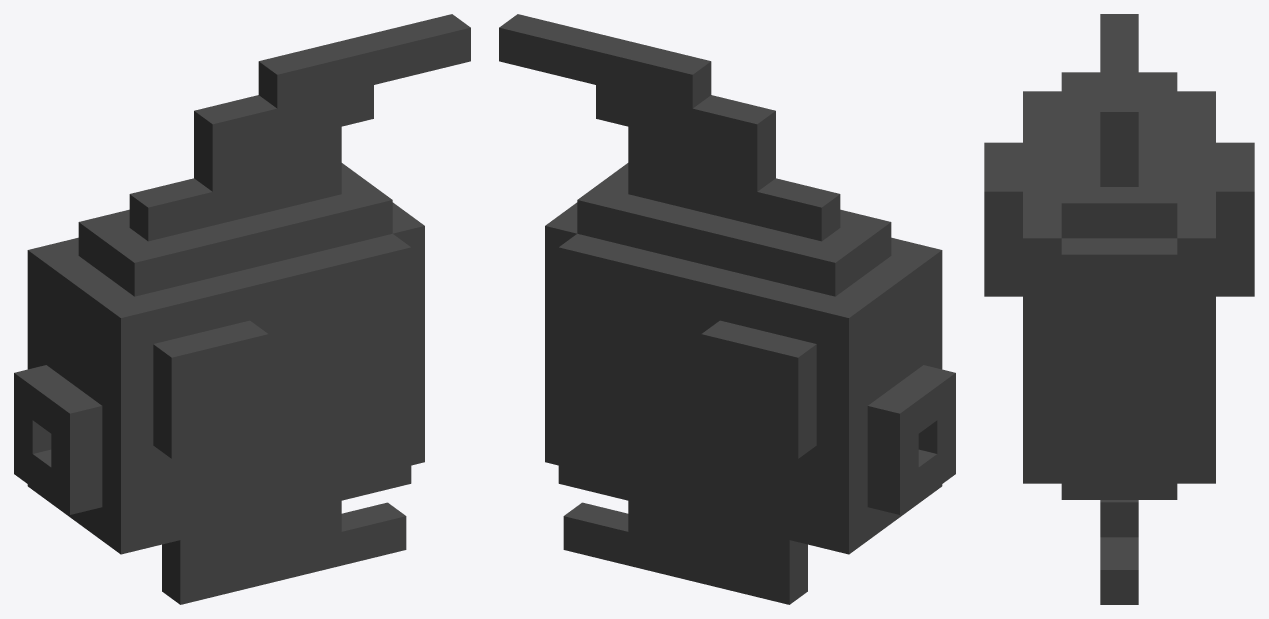
File: fish_1.obj
3 renders of one model, left to right at view 1: azimuth 30°, elevation 25°; view 2: azimuth 150°, elevation 25°; view 3: azimuth 270°, elevation 25°, orthographic. The views are drawn at different scales.
Size of the model in its own units: 1.3 by 1.5 by 0.7.
